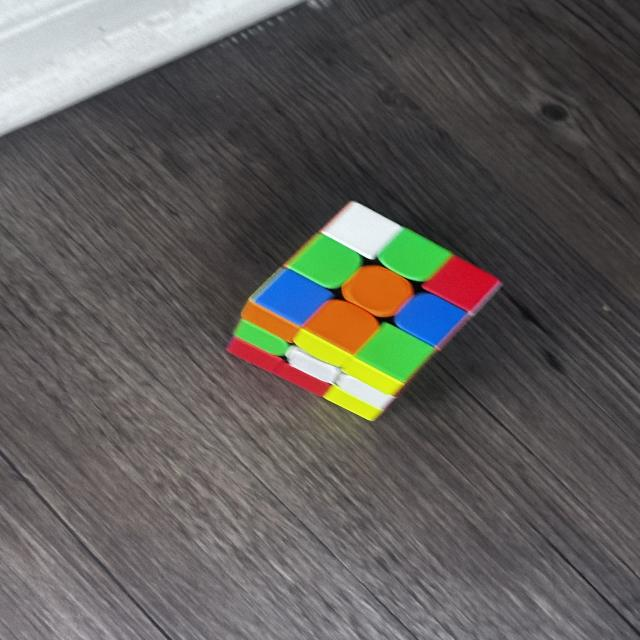sticker: (320, 200, 404, 261), (354, 322, 431, 382), (424, 256, 501, 314), (286, 233, 363, 290), (253, 268, 330, 325), (394, 292, 467, 351), (301, 300, 380, 354), (376, 228, 450, 282), (341, 264, 413, 318)
